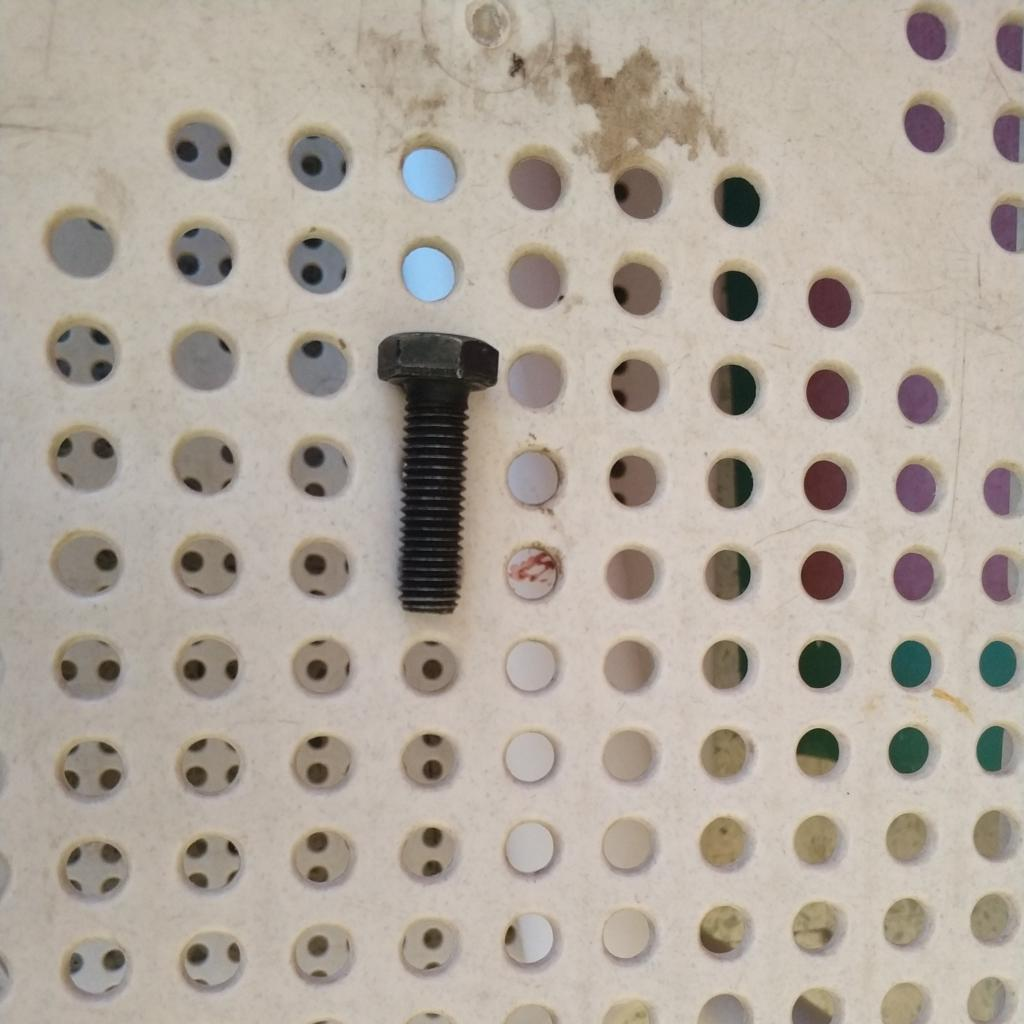screwtype2black: (371, 324, 506, 622)
